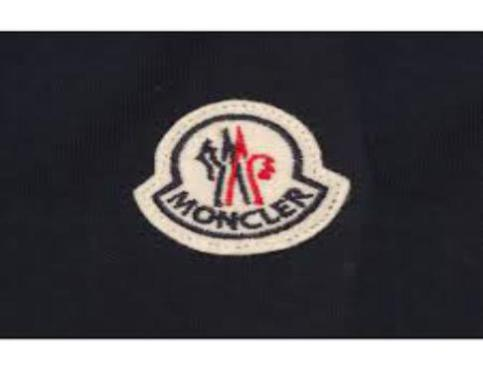MONCLER: (192, 122, 276, 206)
